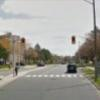cars: (66, 63, 78, 74)
traffic lights: (72, 34, 76, 46)
